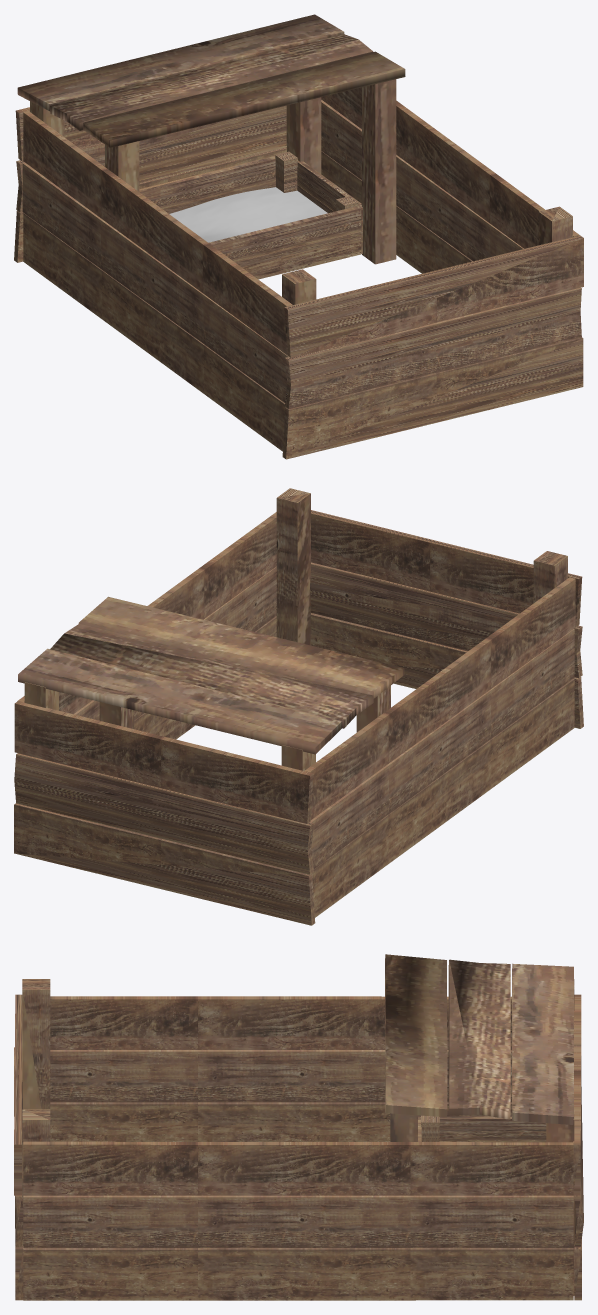
The model's file is smallPenFixed.fbx.
3 renders of one model, top to bottom at view 1: azimuth 30°, elevation 25°; view 2: azimuth 150°, elevation 25°; view 3: azimuth 270°, elevation 25°, orthographic. The views are drawn at different scales.
Parts seen in each view (by area): view 1: Cube, Cube_001; view 2: Cube; view 3: Cube, Cube_001.
Boxes of the visible parts, <box> form: Cube: <box>14,14,583,459</box>; Cube_001: <box>139,151,362,279</box>; Cube: <box>14,488,583,925</box>; Cube: <box>14,954,583,1300</box>; Cube_001: <box>418,1115,546,1142</box>.
Bounding box in the file's own units: 2.23 × 1.36 × 3.55.
